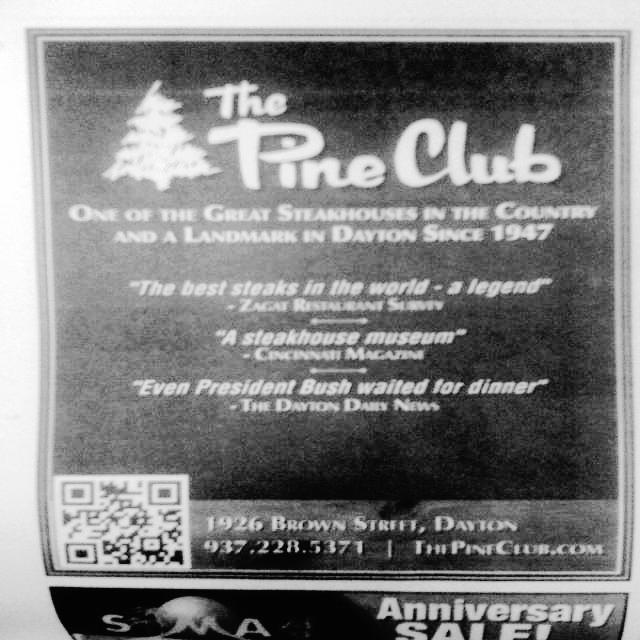qr_code: (60, 480, 185, 566)
